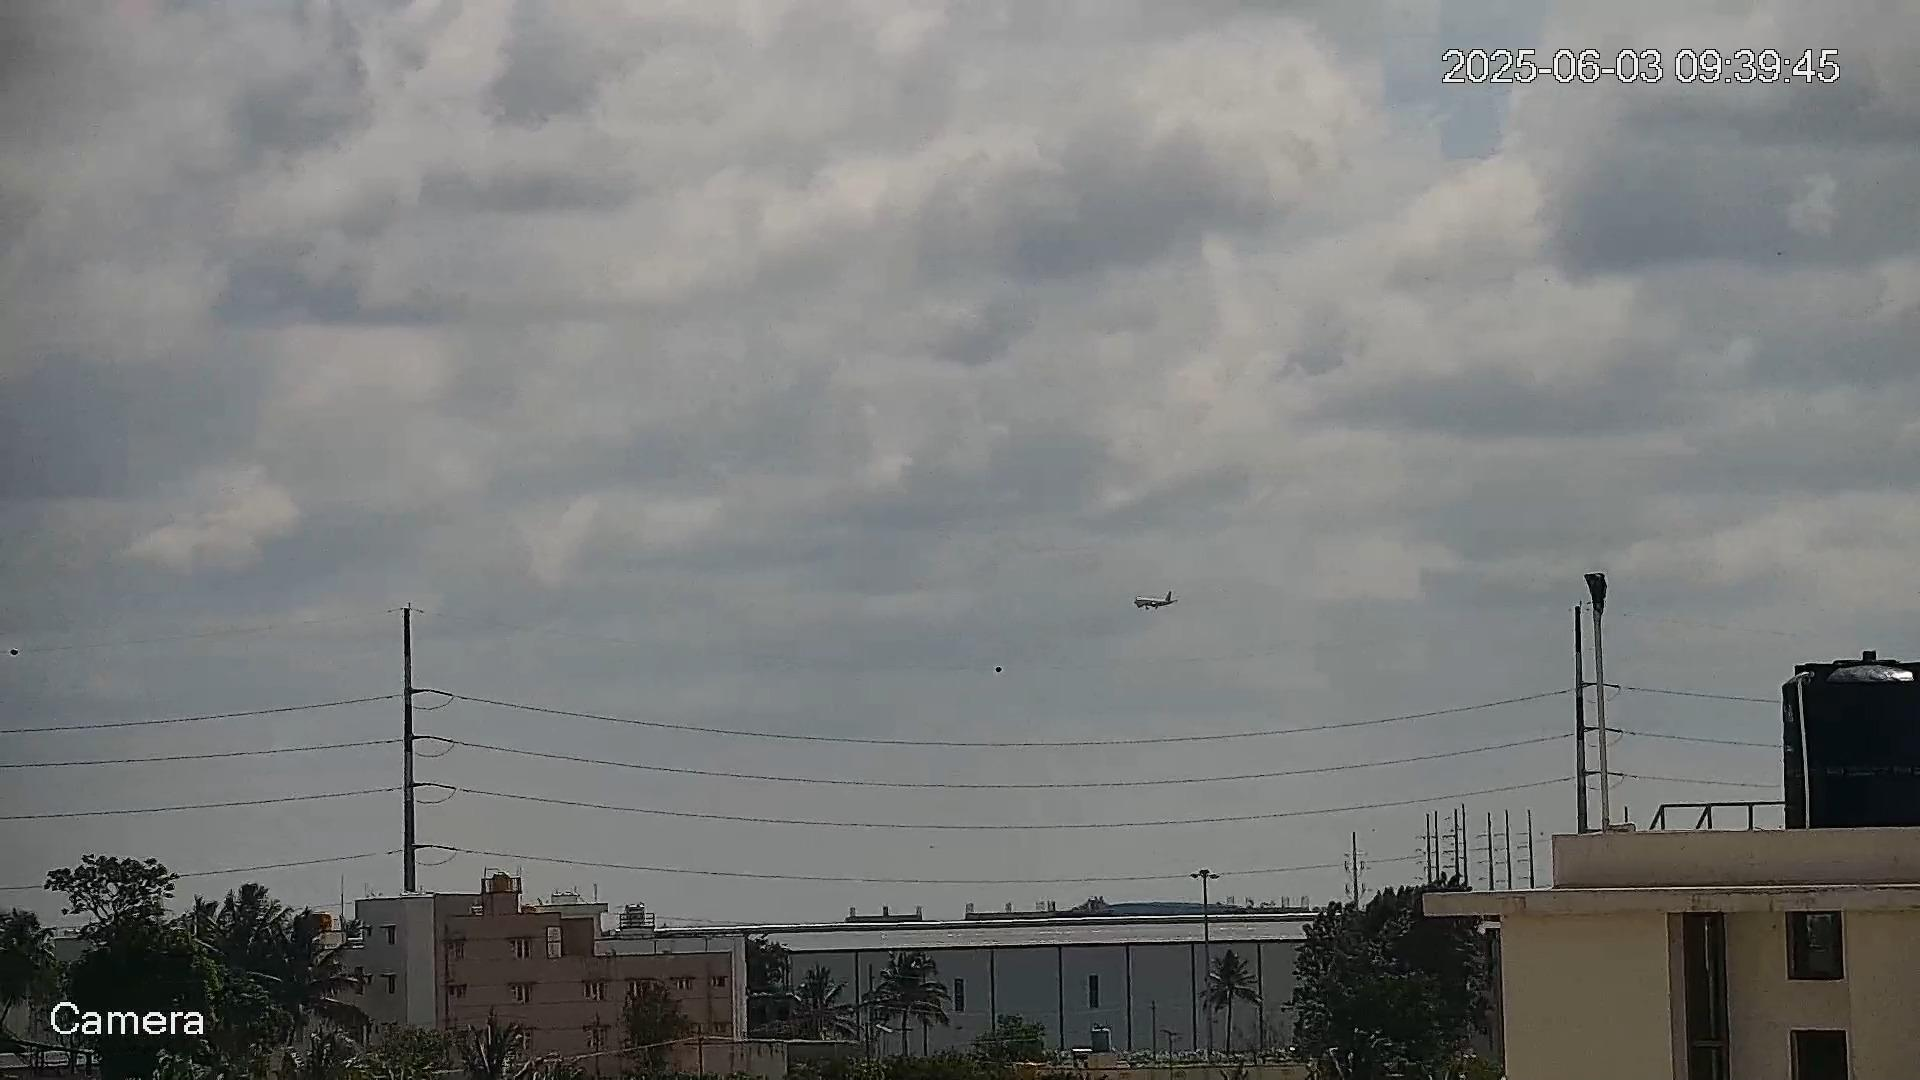Aircraft: (1133, 589, 1179, 612)
